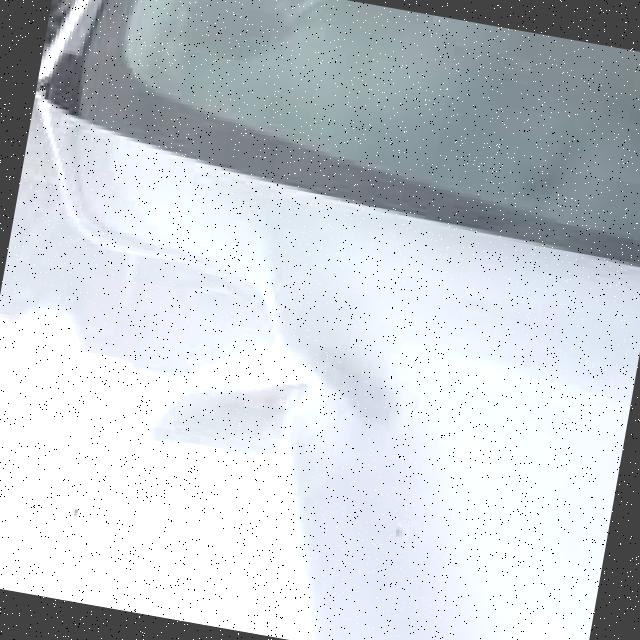Dent: (0, 129, 447, 640)
